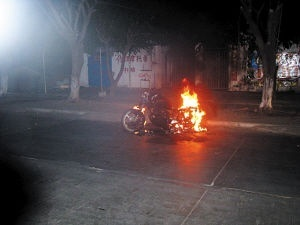fire: (175, 82, 207, 132)
